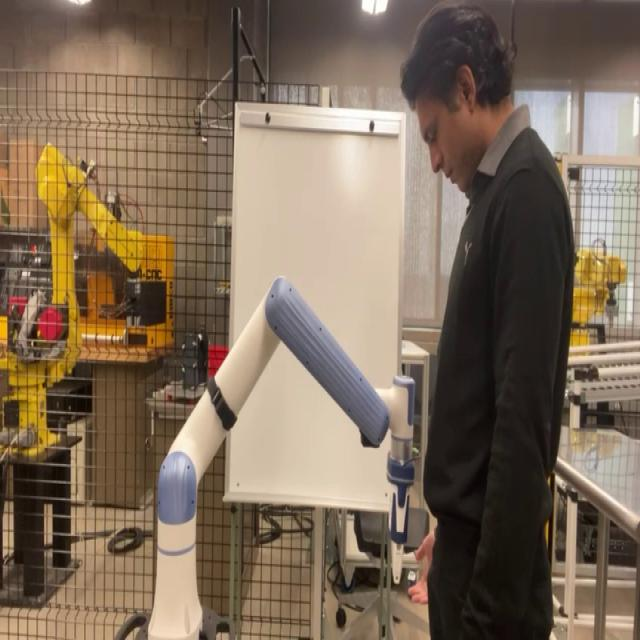robot: (114, 274, 426, 638)
